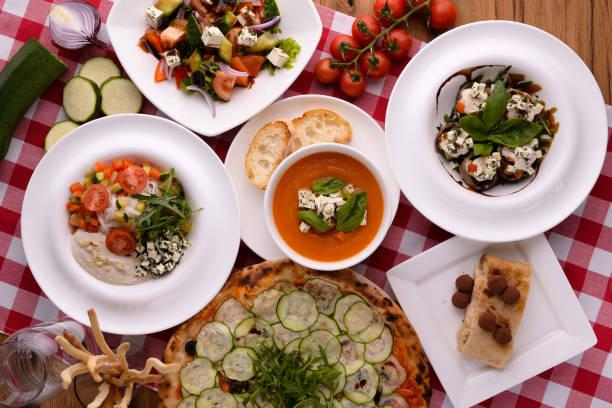Braised Crucian Carp: (385, 19, 604, 242), (24, 115, 243, 338), (383, 228, 593, 407), (102, 0, 321, 136), (262, 141, 389, 271)
